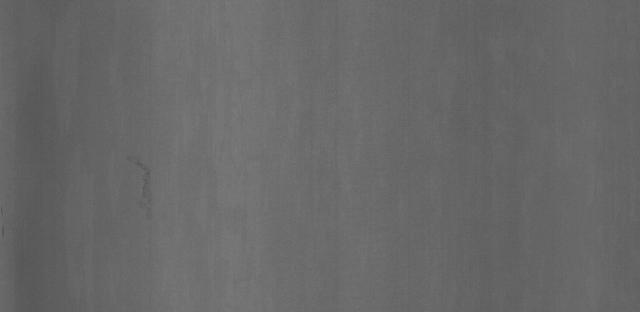water_spot: (124, 139, 173, 220)
